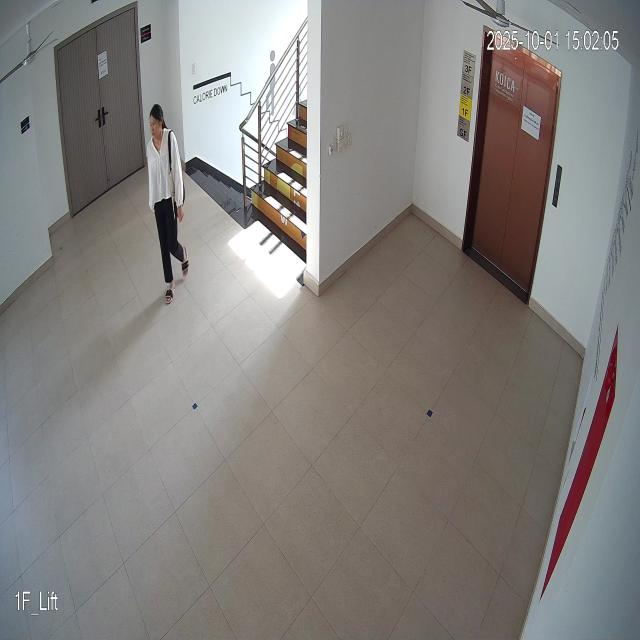face: (145, 93, 167, 145)
